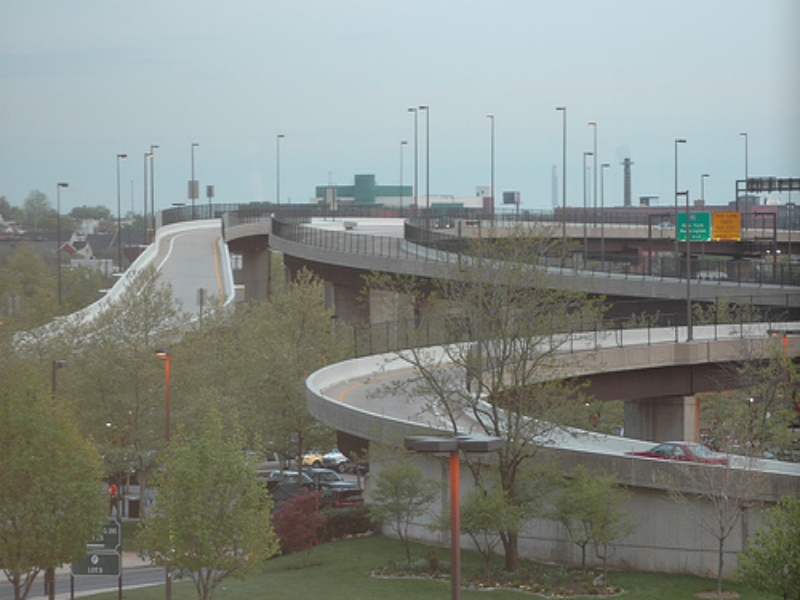car: (625, 441, 729, 467), (435, 216, 455, 230)
